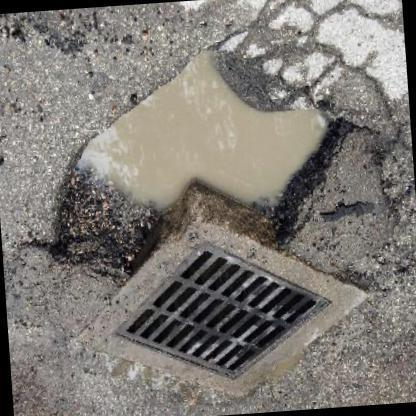pothole: (48, 39, 358, 292)
